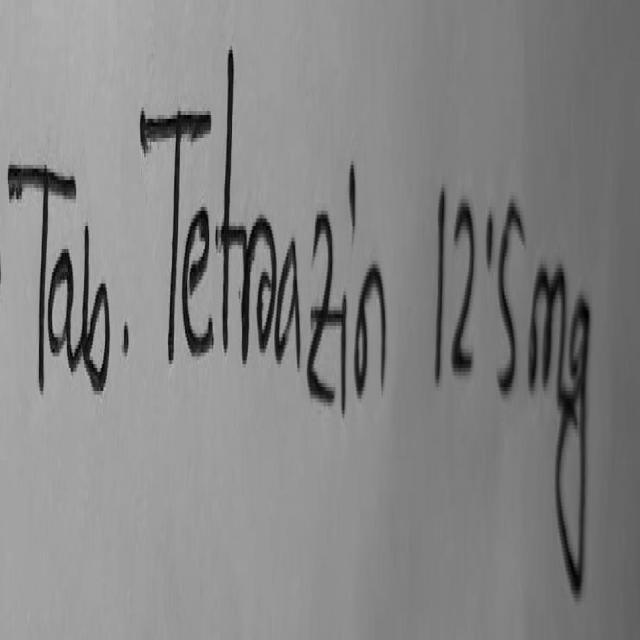1: (436, 184, 445, 377)
2: (453, 199, 475, 366)
5: (498, 195, 526, 385)
T: (140, 107, 211, 358), (8, 161, 75, 385)
a: (47, 245, 81, 366), (275, 234, 300, 362)
b: (81, 222, 109, 387)
e: (182, 203, 214, 351)
g: (557, 291, 591, 588)
i: (340, 287, 347, 408), (349, 157, 356, 228)
m: (530, 261, 566, 393)
n: (355, 264, 386, 391)
r: (242, 211, 275, 358)
t: (221, 42, 245, 345)
z: (308, 211, 336, 397)
